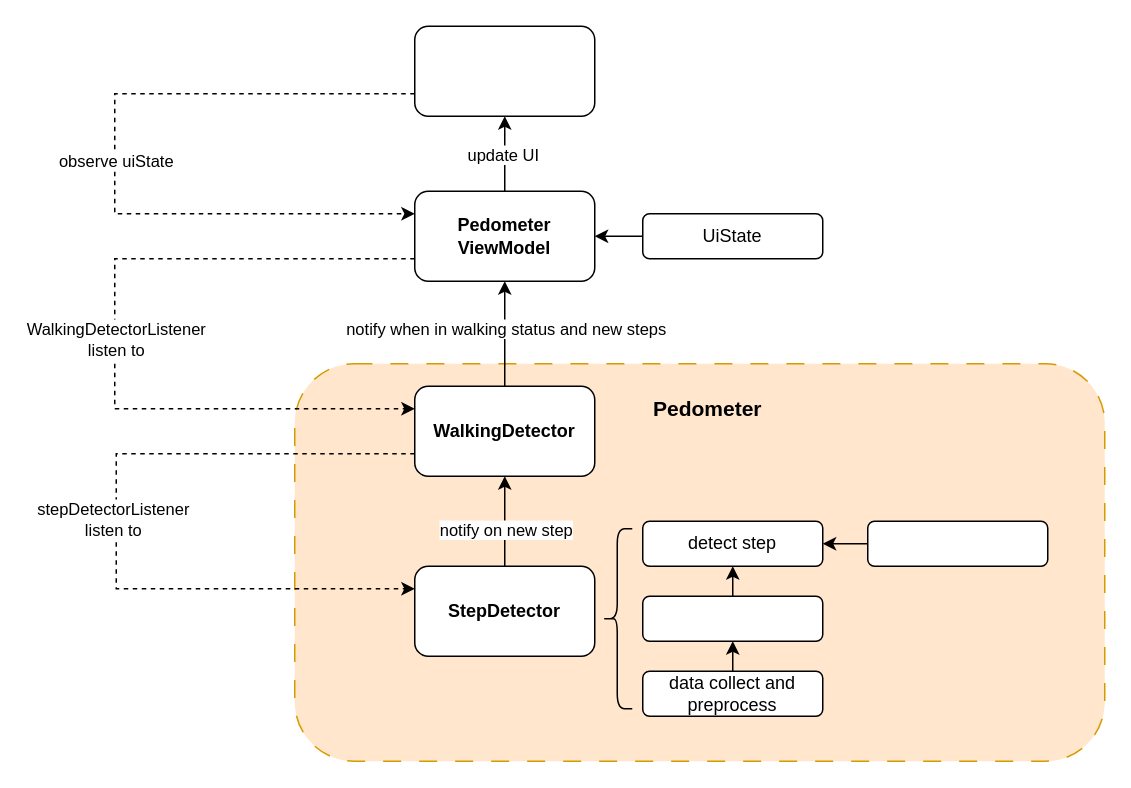
Image size: 1131x788. Some labels were removed from this diagram. Here are the shapes that lost their labels. From the top down, the centre of each, then its label:
At (x=504, y=70): "PedometerView Composable fun".
At (x=957, y=543): "assistant class for dynamic threshold".
At (x=732, y=618): "detect peak".
